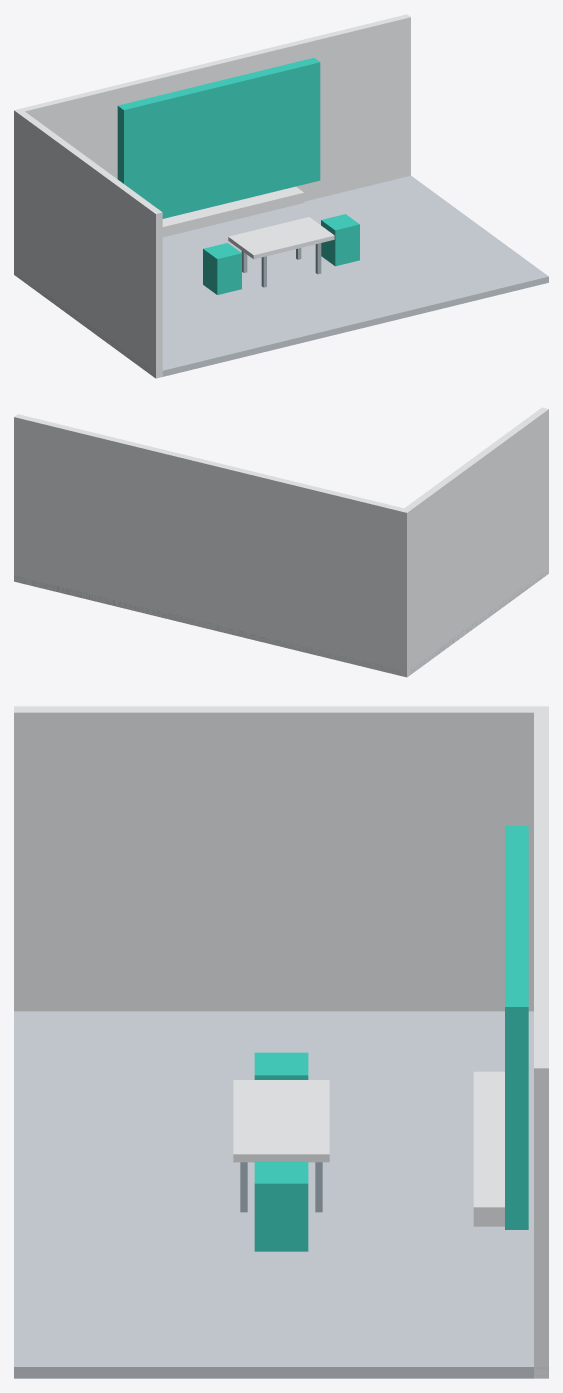
3 renders of one model, top to bottom at view 1: azimuth 30°, elevation 25°; view 2: azimuth 150°, elevation 25°; view 3: azimuth 270°, elevation 25°, orthographic. The views are drawn at different scales.
Visible parts, largest first — view 1: Exhibition Booth Concept; view 2: Exhibition Booth Concept; view 3: Exhibition Booth Concept.
Boxes of the visible parts, x1,y1,x2,y2 form: Exhibition Booth Concept: (14, 14, 548, 378); Exhibition Booth Concept: (14, 407, 548, 677); Exhibition Booth Concept: (14, 706, 548, 1378).
Size of the model in its own units: 8 by 3.2 by 5.
